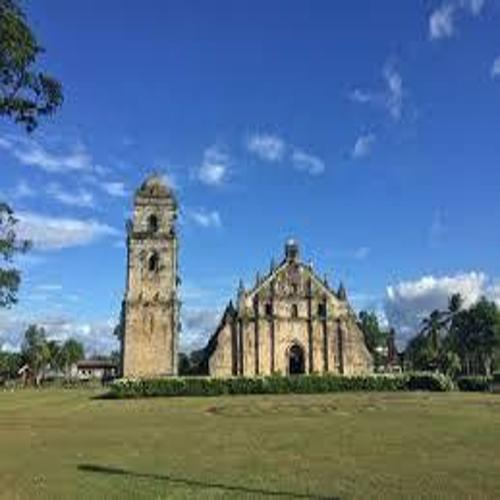Paoay Church: (96, 167, 381, 385)
